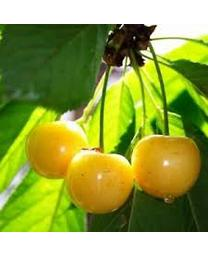cherry: (131, 134, 201, 199), (65, 149, 134, 213), (24, 121, 90, 179)
